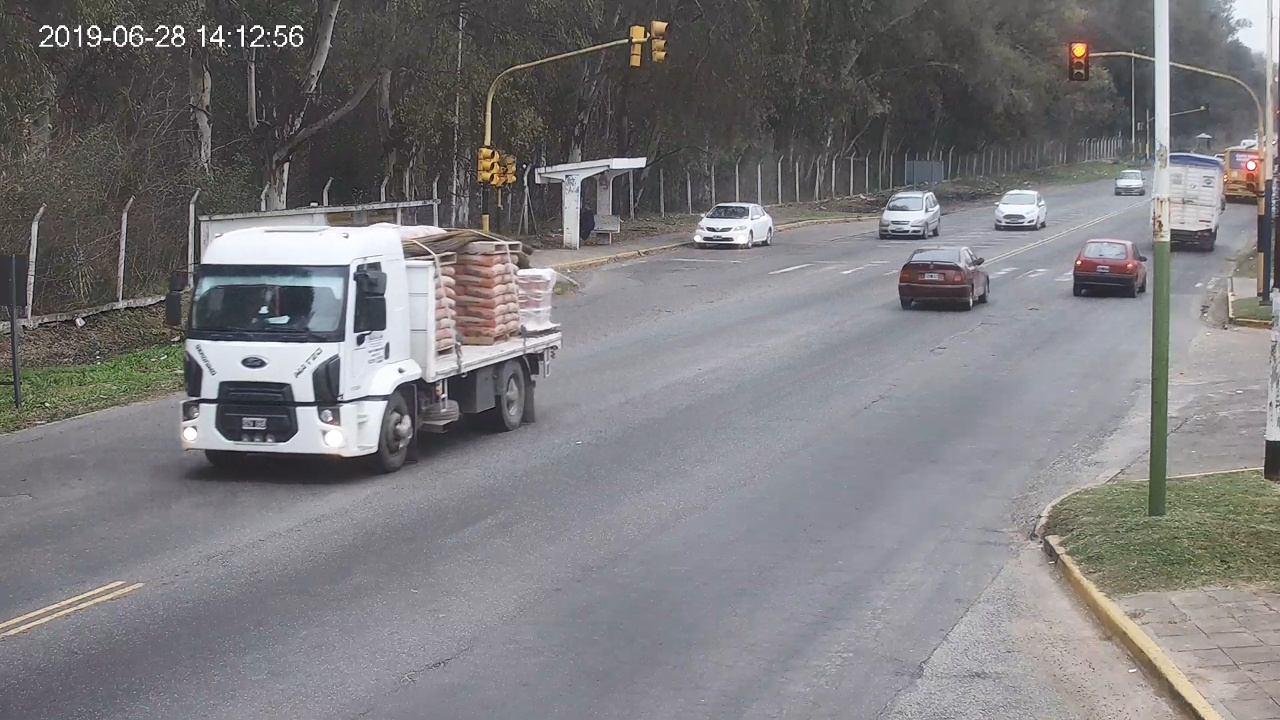car: (898, 245, 990, 310), (1073, 239, 1147, 298)
front car: (694, 202, 773, 248), (880, 191, 941, 239), (995, 189, 1047, 230)
front truck: (164, 223, 563, 475)
traffic light: (1070, 42, 1088, 80), (1246, 160, 1256, 190)
